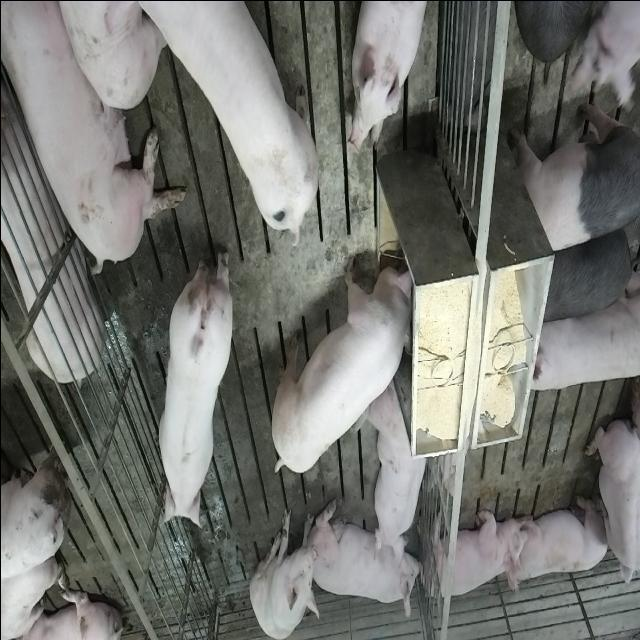Feeding: (273, 246, 421, 474)
Lateral_lying: (4, 4, 188, 278), (0, 56, 104, 384)
Sitting: (249, 504, 319, 638)
Standing: (128, 0, 324, 241), (154, 240, 234, 526), (514, 96, 638, 256), (528, 284, 638, 390), (534, 222, 638, 325)
Sternal_lying: (348, 0, 432, 153), (314, 505, 426, 618), (366, 375, 430, 561), (508, 491, 610, 589), (584, 413, 638, 596), (425, 505, 521, 603)
